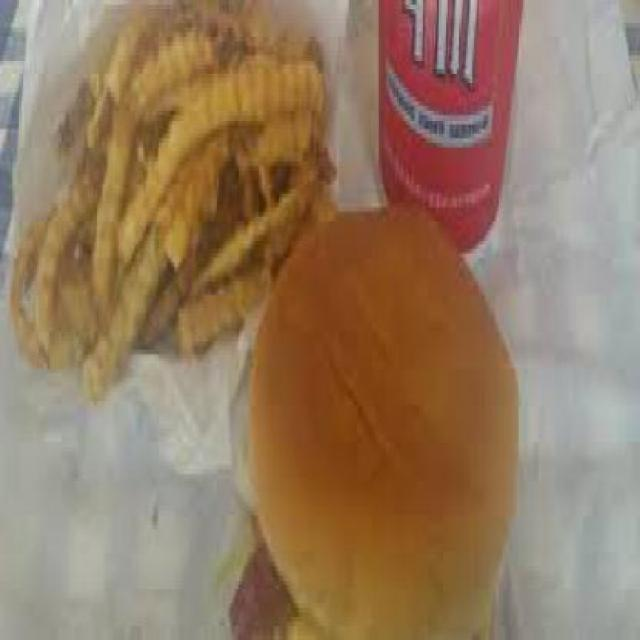hamburger: (208, 198, 528, 636)
